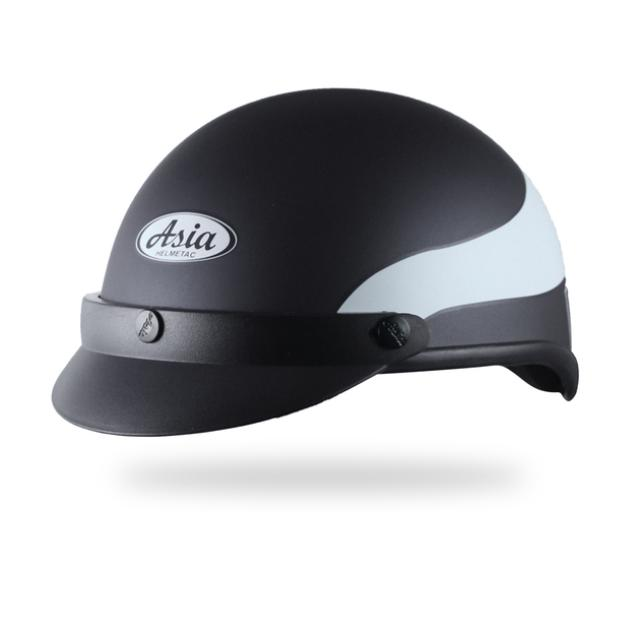Helmet: (49, 83, 581, 439)
